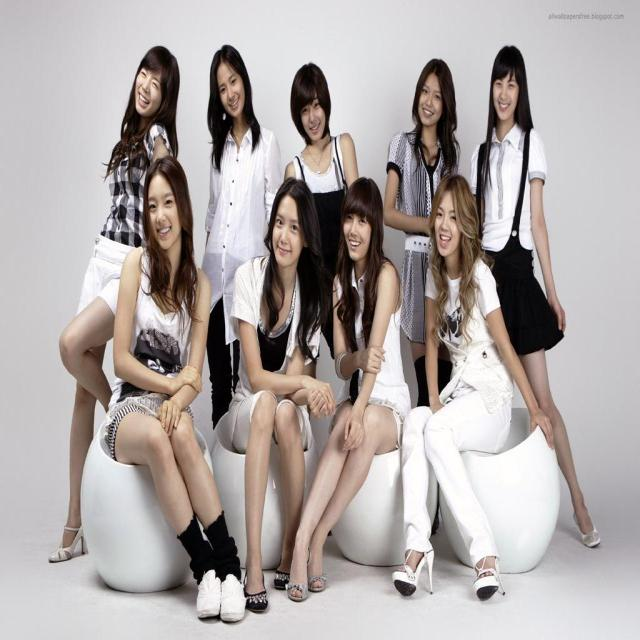Face: (339, 189, 387, 273), (483, 66, 535, 135), (128, 52, 178, 122), (206, 56, 255, 126), (147, 173, 188, 255), (427, 184, 470, 260), (407, 68, 454, 134), (287, 90, 331, 153), (271, 196, 294, 271)
